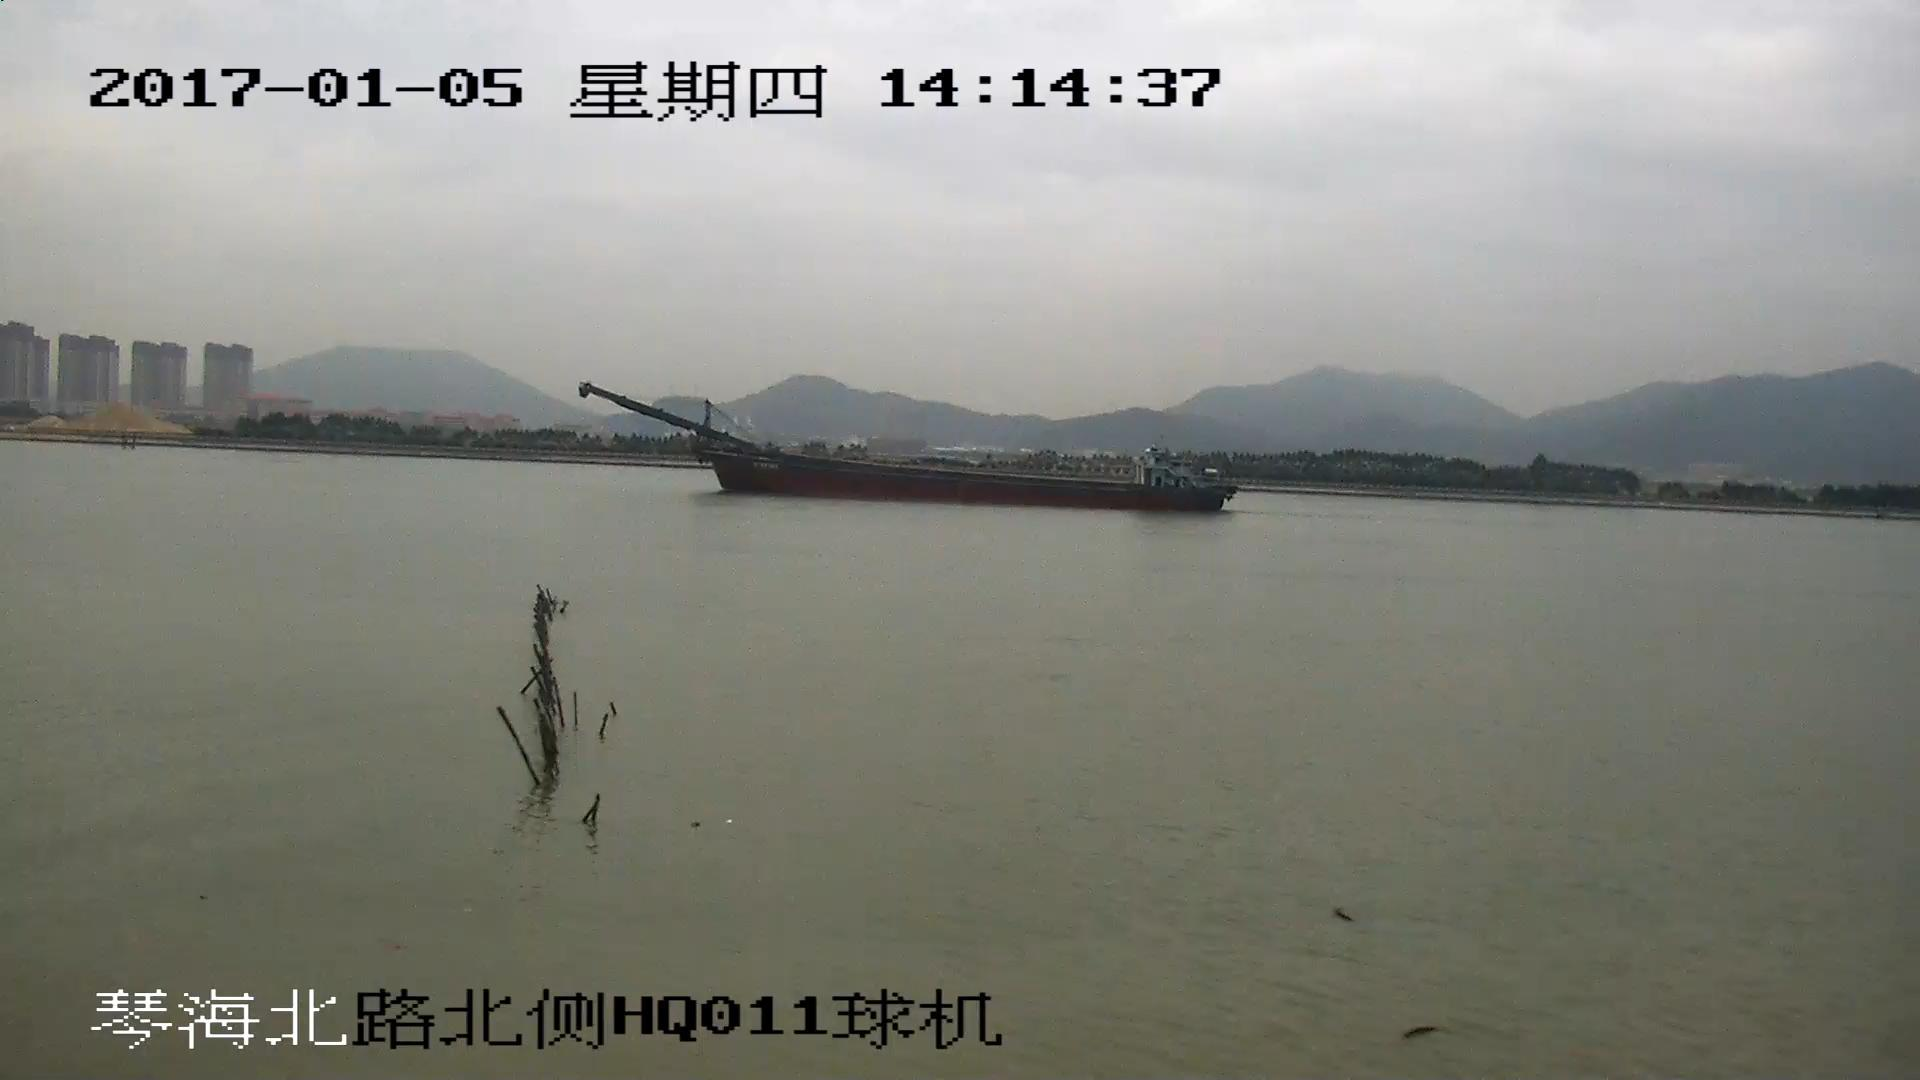Ship: (580, 386, 1233, 517)
